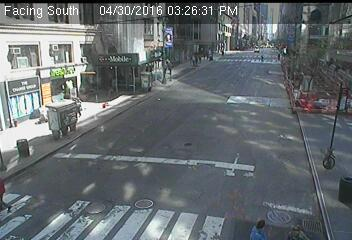neg: (297, 137, 314, 159), (203, 144, 217, 163), (242, 33, 251, 45), (276, 92, 285, 104), (245, 70, 254, 81), (176, 105, 184, 116), (140, 166, 147, 176), (185, 139, 191, 146)
pos: (185, 46, 203, 71), (251, 215, 268, 238), (275, 52, 286, 67), (259, 52, 267, 63)
